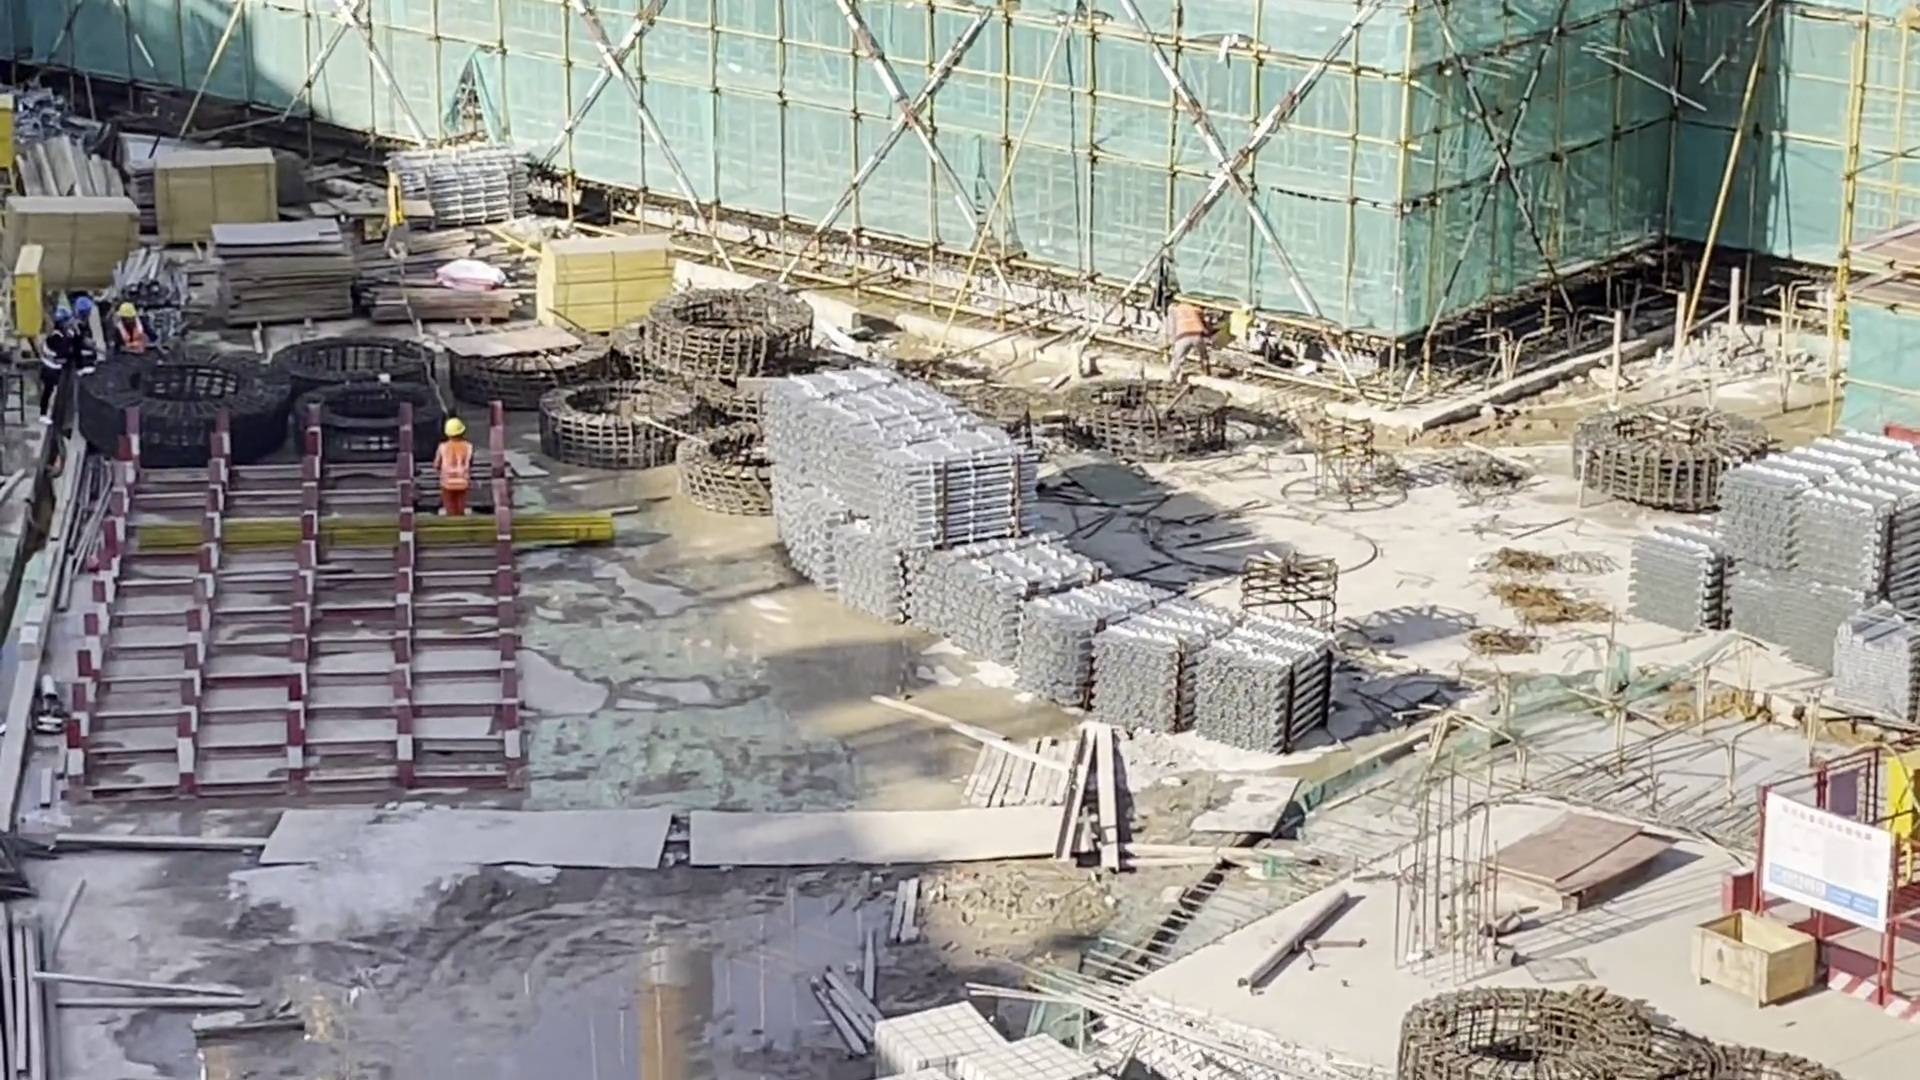board: (1493, 811, 1647, 911), (219, 223, 365, 324), (538, 234, 673, 330), (154, 141, 274, 243), (1, 206, 148, 287)
brick: (877, 999, 1066, 1080)
ebox: (12, 246, 46, 345), (1886, 745, 1919, 847), (1, 96, 23, 161)
helmet: (443, 418, 465, 435), (117, 302, 137, 319)
person: (1158, 293, 1211, 384), (436, 422, 471, 514), (112, 301, 148, 362)
scaffold: (758, 381, 1036, 618), (1023, 576, 1332, 754), (1724, 435, 1920, 665), (942, 542, 1094, 658), (397, 145, 527, 233), (1628, 520, 1729, 633), (1831, 614, 1920, 714)
vest: (439, 441, 469, 488), (1173, 301, 1204, 341), (119, 322, 146, 356)
